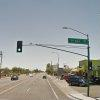Traffic light: (10, 33, 27, 56)
